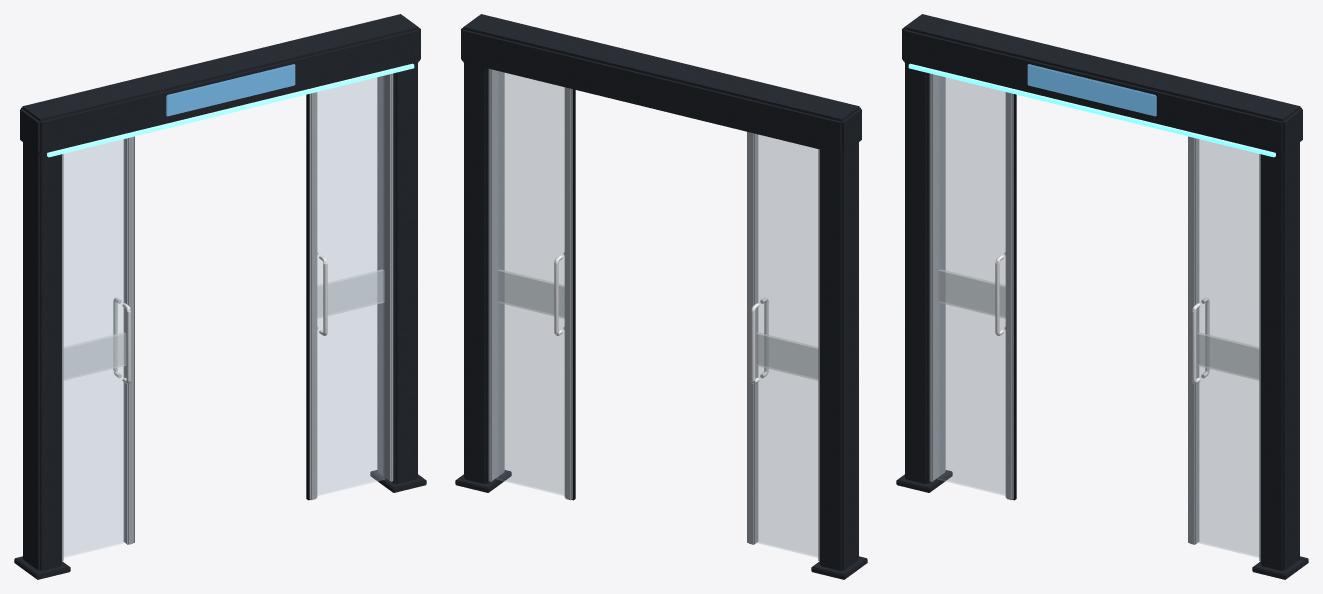
Rendered from decor_cold_aisle_gate.glb.
The picture shows the model from 3 angles, left to right: view 1: azimuth 30°, elevation 25°; view 2: azimuth 150°, elevation 25°; view 3: azimuth 330°, elevation 25°; orthographic projection.
Parts seen in each view (by area): view 1: DecorColdAisleGate, ColdAisleGate_Glass; view 2: DecorColdAisleGate, ColdAisleGate_Glass; view 3: DecorColdAisleGate, ColdAisleGate_Glass.
Part boxes in pixels (x1,y1,x2,y2): DecorColdAisleGate: (14,14,426,579); ColdAisleGate_Glass: (63,76,385,557); DecorColdAisleGate: (455,14,867,579); ColdAisleGate_Glass: (496,71,818,557); DecorColdAisleGate: (896,14,1308,579); ColdAisleGate_Glass: (937,76,1259,557).
Size of the model in its own units: 2.3 by 2.58 by 0.24.
Materials: 8 (3 with a texture image).
